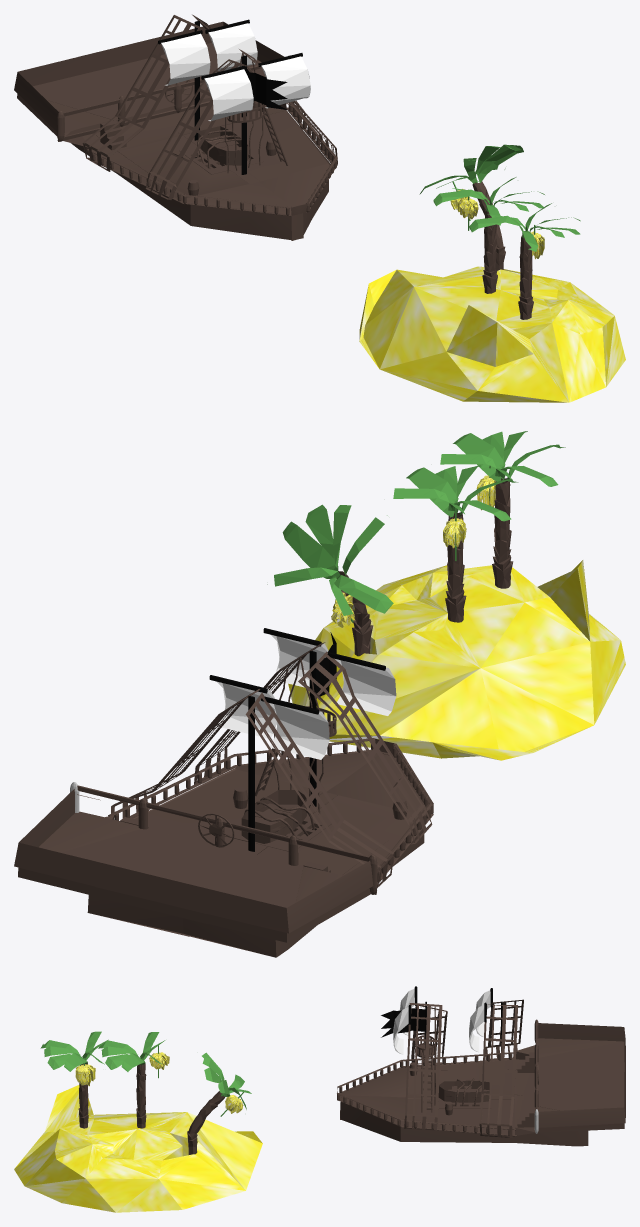
Rendered from Schiff_VR_22.10.2016.fbx.
3 views of the same model, one above another, from view 1: azimuth 30°, elevation 25°; view 2: azimuth 150°, elevation 25°; view 3: azimuth 270°, elevation 25° (orthographic). The views are drawn at different scales.
Visible parts, largest first — view 1: Landschaft_1, Schiff, segelhalter4, Segelhalter1, Röhre_4, Röhre_8, Röhre, Röhre_6, Blätter, Boot, Blätter_6, Baumstamm_6 (+6 smaller); view 2: Schiff, Landschaft_1, Blätter, Segelhalter1, segelhalter4, Blätter_4, Blätter_6, Röhre_8, Röhre_4, Boot, Baumstamm_6, Zylinder_3_10 (+8 smaller); view 3: Schiff, Landschaft_1, Segelhalter3, Segelhalter2, Blätter_6, Blätter_4, Boot, Blätter, Baumstamm, segelhalter4, Flagge, Baumstamm_4 (+5 smaller).
Part boxes in pixels (x1,y1,x2,y2): Landschaft_1: (359, 266, 625, 402); Schiff: (14, 21, 330, 240); segelhalter4: (82, 15, 201, 171); Segelhalter1: (145, 59, 246, 199); Röhre_4: (161, 33, 210, 85); Röhre_8: (204, 69, 253, 121); Röhre: (208, 23, 257, 72); Röhre_6: (261, 56, 310, 108); Blätter: (419, 144, 523, 194); Boot: (198, 126, 248, 165); Blätter_6: (469, 203, 580, 251); Baumstamm_6: (518, 235, 533, 319); Schiff: (14, 738, 424, 957); Landschaft_1: (288, 560, 625, 760); Blätter: (267, 504, 393, 615); Segelhalter1: (298, 651, 432, 844); segelhalter4: (245, 692, 393, 887); Blätter_4: (393, 465, 518, 521); Blätter_6: (440, 431, 565, 486); Röhre_8: (335, 659, 396, 715); Röhre_4: (269, 703, 329, 759); Boot: (241, 790, 306, 843); Baumstamm_6: (492, 478, 513, 588); Zylinder_3_10: (77, 785, 369, 861); Schiff: (337, 1023, 625, 1146); Landschaft_1: (14, 1085, 262, 1212); Segelhalter3: (479, 1004, 517, 1137); Segelhalter2: (404, 1003, 442, 1130); Blätter_6: (40, 1031, 108, 1071); Blätter_4: (98, 1032, 165, 1071); Boot: (438, 1080, 489, 1102); Blätter: (202, 1052, 251, 1109); Baumstamm: (187, 1091, 224, 1154); segelhalter4: (485, 999, 523, 1060); Flagge: (381, 1008, 425, 1037); Baumstamm_4: (136, 1061, 146, 1128).
Bounding box in the file's own units: 1116 × 633 × 2487.
6 materials, 3 textured.
